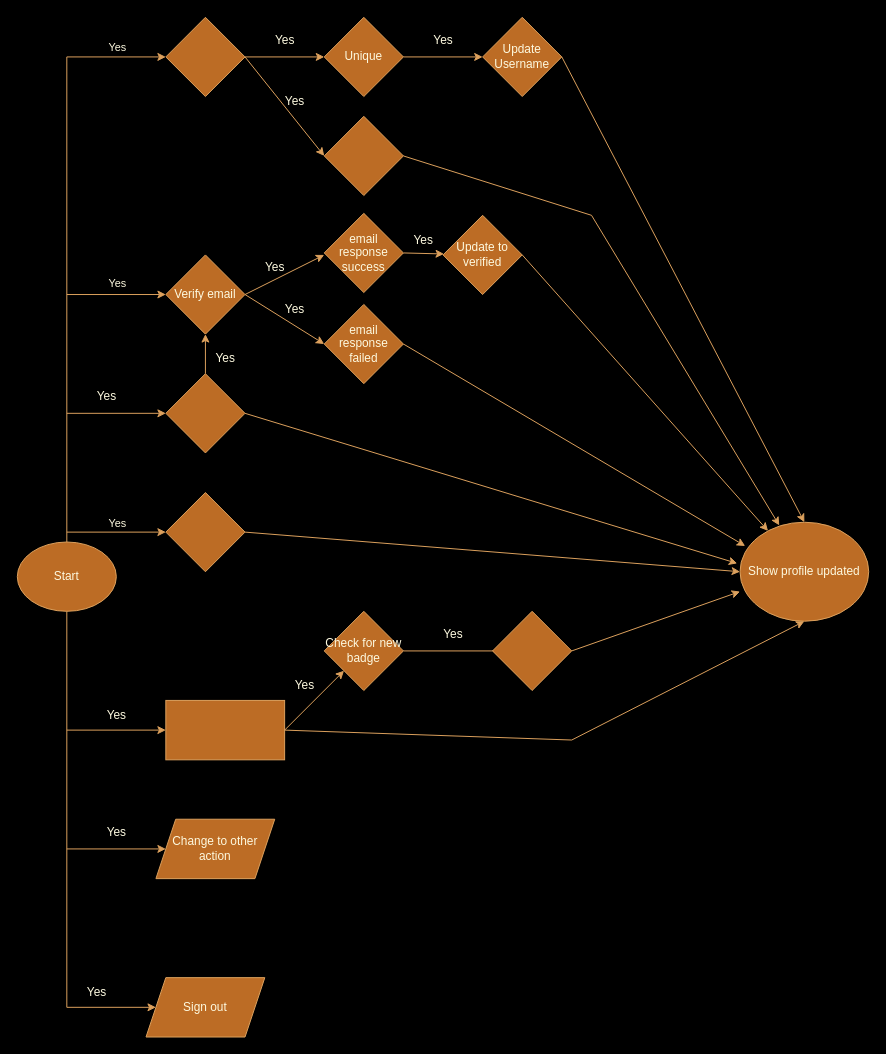
The diagram is 886 pixels wide and 1054 high, and some of its shapes have lost their labels. Each missing label, with the centre of its shape:
"Change Email" goes at (205,413).
"Change Username" goes at (205,56).
"Increase engagement score" goes at (225,729).
"New badge added" goes at (532,650).
"Not unique" goes at (363,155).
"Update description" goes at (205,532).
